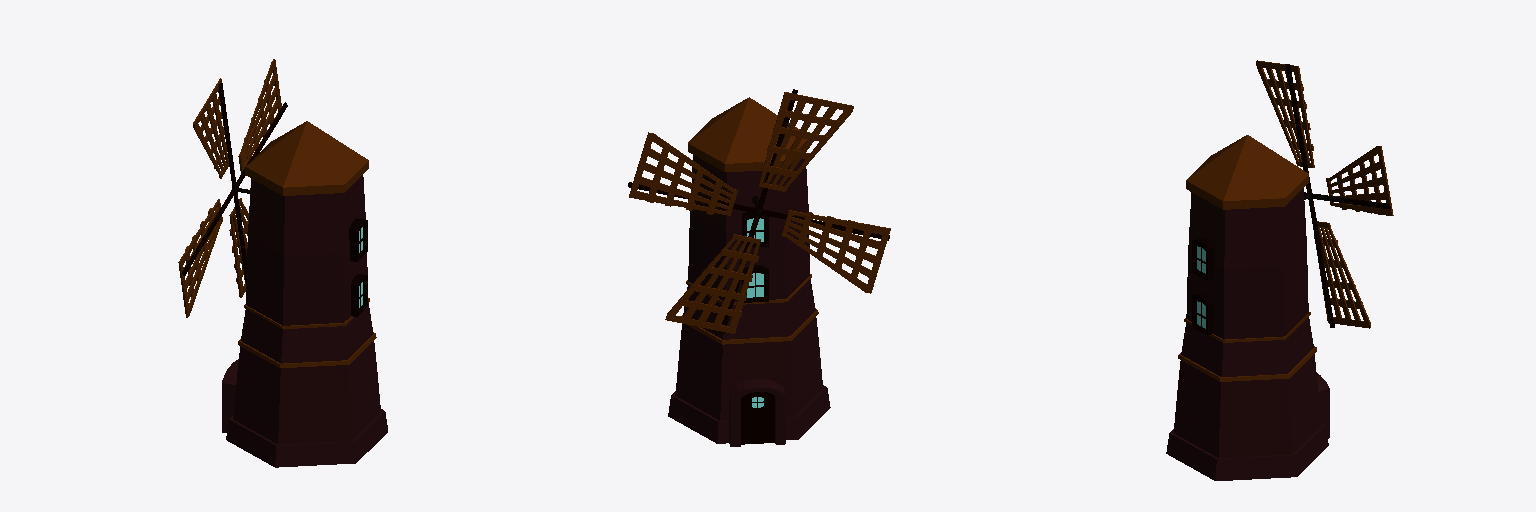
The model's file is Molino.obj.
The picture shows the model from 3 angles: view 1: azimuth 30°, elevation 25°; view 2: azimuth 150°, elevation 25°; view 3: azimuth 270°, elevation 25°; orthographic projection.
Parts seen in each view (by area): view 1: Mesh; view 2: Mesh; view 3: Mesh.
Part boxes in pixels (bbox=[...]): Mesh: bbox=[178, 59, 387, 467]; Mesh: bbox=[628, 89, 890, 446]; Mesh: bbox=[1166, 60, 1393, 480].
Bounding box in the file's own units: 39.73 × 67.01 × 39.03.